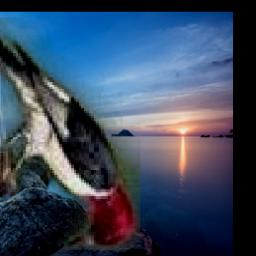Woodpecker: (0, 18, 140, 251)
